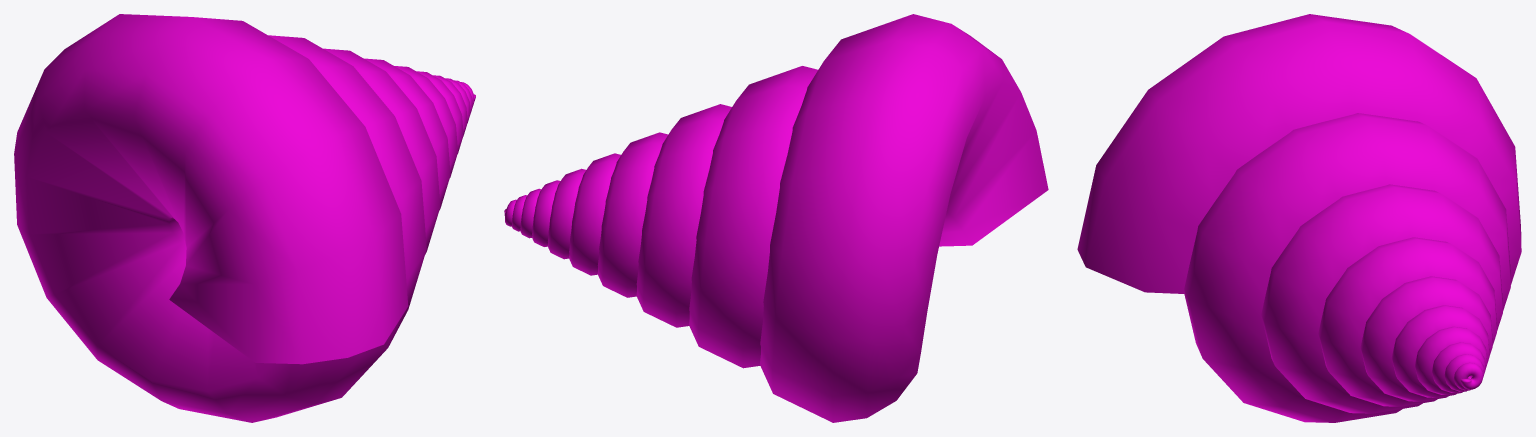
The model's file is Twist_Shell.fbx.
The picture shows the model from 3 angles, left to right: view 1: azimuth 30°, elevation 25°; view 2: azimuth 150°, elevation 25°; view 3: azimuth 270°, elevation 25°; orthographic projection. The views are drawn at different scales.
Parts seen in each view (by area): view 1: twist shell; view 2: twist shell; view 3: twist shell.
Part boxes in pixels (bbox=[...]): twist shell: bbox=[14, 14, 475, 422]; twist shell: bbox=[504, 14, 1048, 422]; twist shell: bbox=[1077, 14, 1521, 422].
Bounding box in the file's own units: 0.2955 × 0.2499 × 0.2696.
